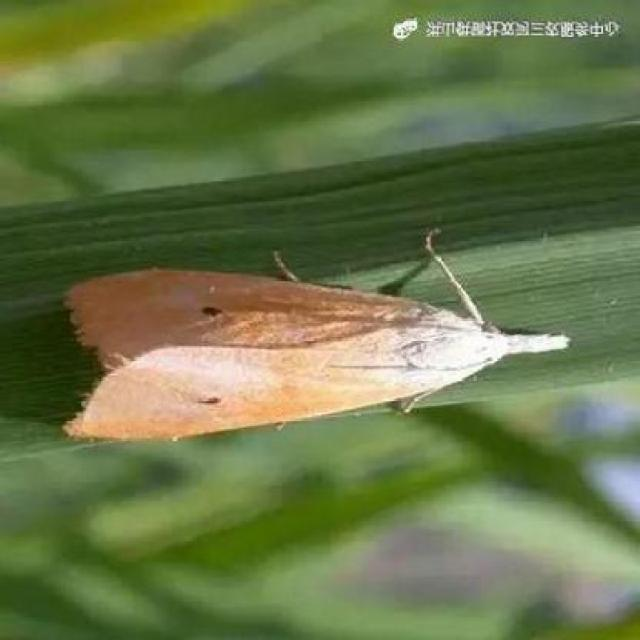stem-borer: (58, 258, 574, 444)
